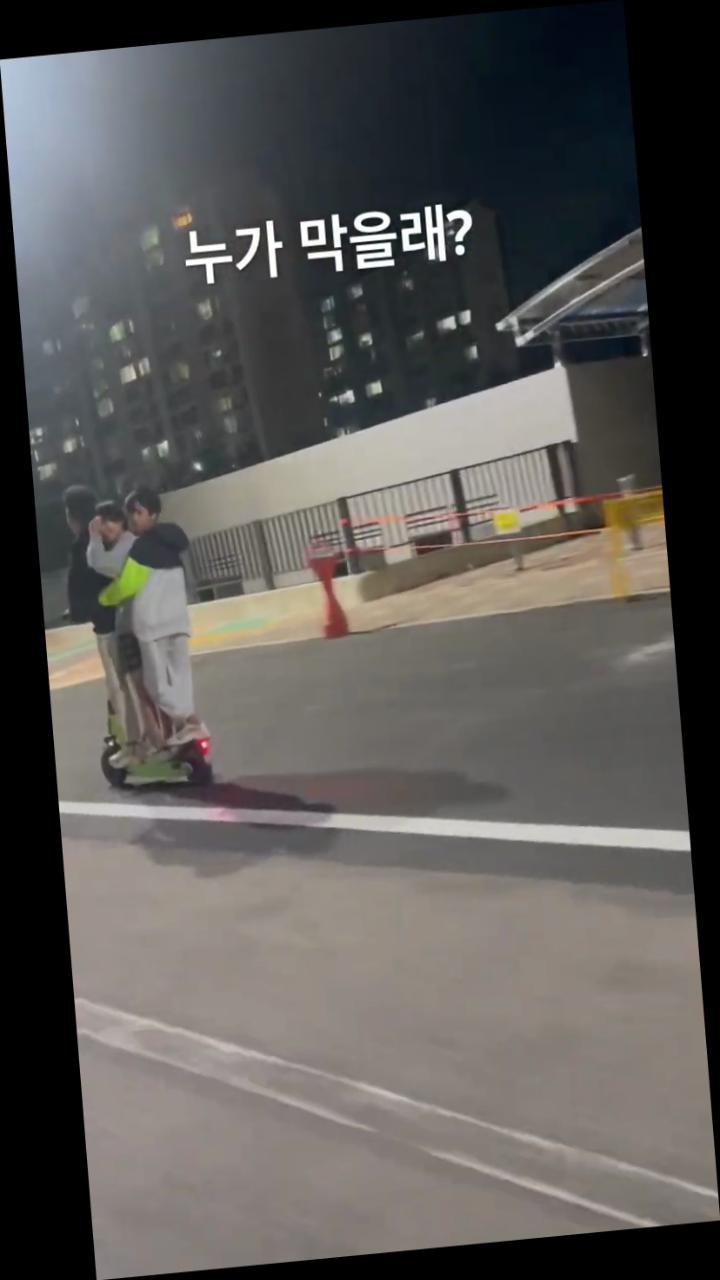multiple: (54, 471, 219, 798)
